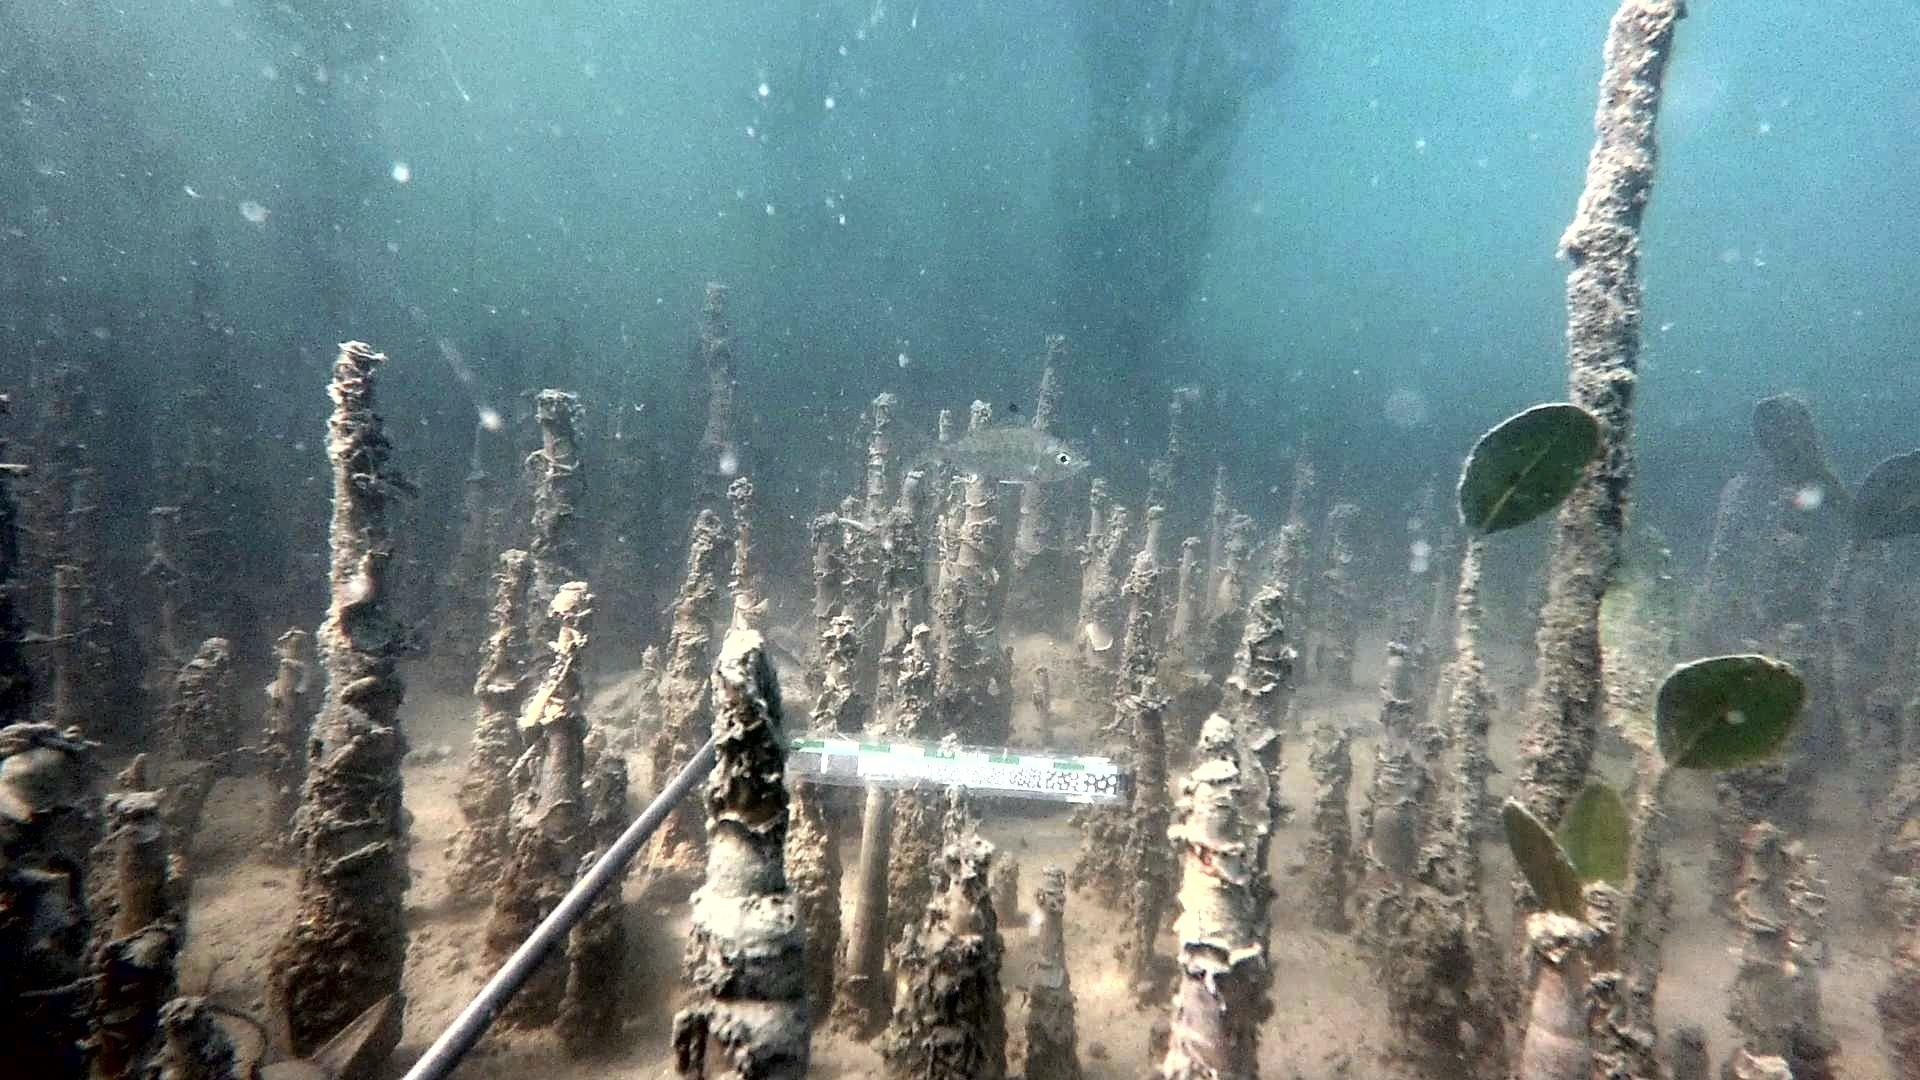gerres: (902, 402, 1092, 484)
